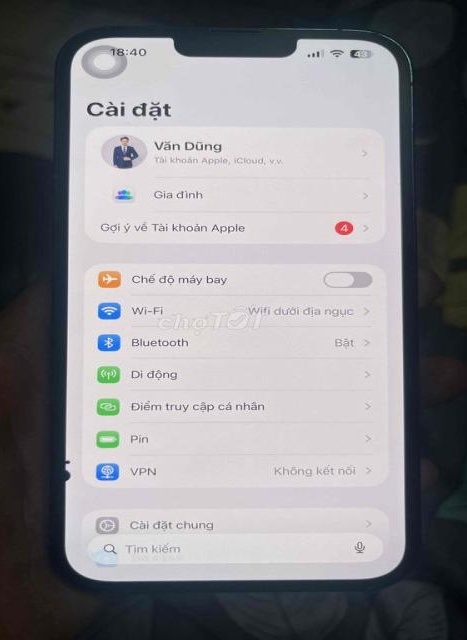screen_defect: (53, 428, 112, 526)
